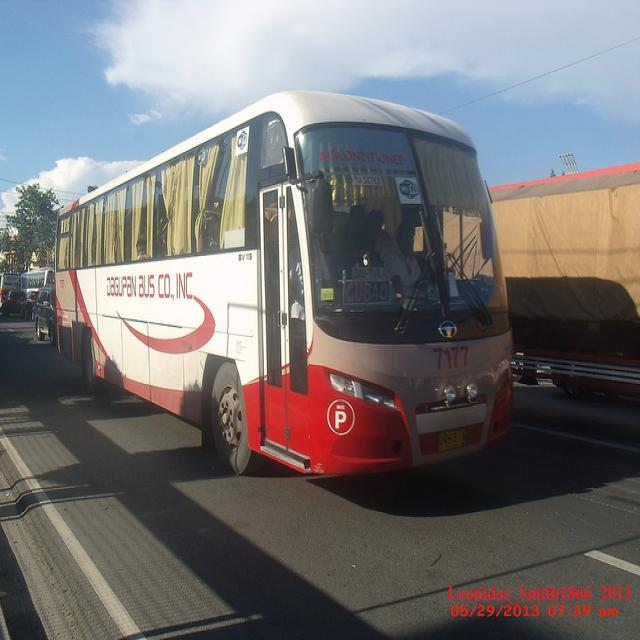Vehicle: (56, 93, 513, 479), (32, 288, 55, 345), (20, 267, 56, 298), (1, 291, 27, 318), (20, 291, 40, 319), (1, 274, 21, 292)
